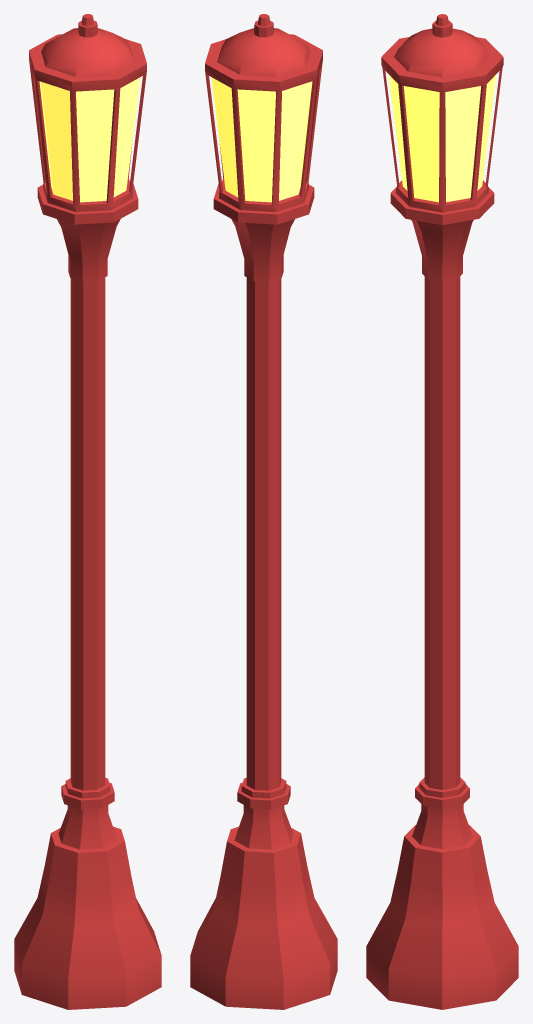
File: emissiontest.glb
The picture shows the model from 3 angles, left to right: view 1: azimuth 30°, elevation 25°; view 2: azimuth 150°, elevation 25°; view 3: azimuth 270°, elevation 25°; orthographic projection.
Parts seen in each view (by area): view 1: Cylinder, Cylinder.001; view 2: Cylinder, Cylinder.001; view 3: Cylinder, Cylinder.001.
Part boxes in pixels (x1=…): Cylinder: x1=14, y1=14, x2=161, y2=1009; Cylinder.001: x1=39, y1=77, x2=140, y2=202; Cylinder: x1=190, y1=14, x2=337, y2=1009; Cylinder.001: x1=211, y1=77, x2=312, y2=202; Cylinder: x1=366, y1=14, x2=518, y2=1009; Cylinder.001: x1=388, y1=74, x2=496, y2=202.
Bounding box in the file's own units: 0.4731 × 3.29 × 0.4731.
